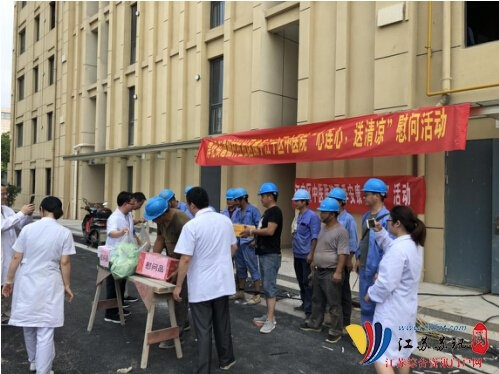blue: (143, 196, 168, 224), (362, 178, 387, 206), (256, 182, 279, 208), (317, 198, 339, 224), (292, 188, 311, 210), (231, 188, 249, 208), (157, 188, 176, 206), (225, 188, 233, 207)
none: (387, 204, 415, 235), (185, 186, 210, 215), (39, 195, 63, 222), (116, 190, 135, 213)
